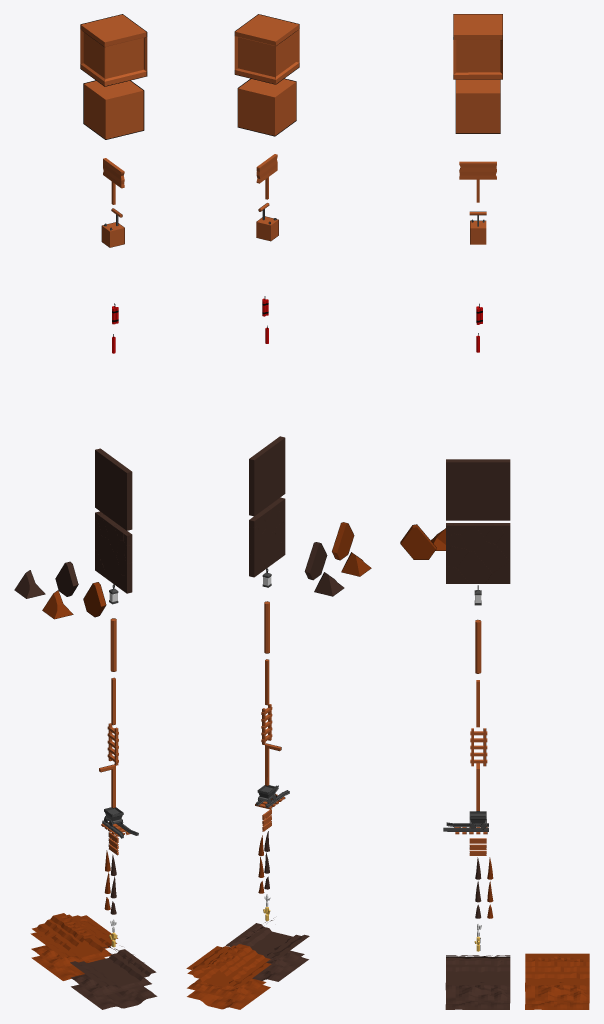
Rendered from CaveLevelForExportFixed2.fbx.
3 views of the same model, side by side, from view 1: azimuth 30°, elevation 25°; view 2: azimuth 150°, elevation 25°; view 3: azimuth 270°, elevation 25° (orthographic). The views are drawn at different scales.
Visible parts, largest first — view 1: Box_Wooden, Box_Wooden.001, RockBlowNotCut, GridWallV2, GridWallV5, GridWallV4, GridWallV6, GridWallV3, GridWallV7, StoneV2, StoneV4, GridWallV7.001 (+7 smaller); view 2: Box_Wooden, Box_Wooden.001, RockBlowNotCut, GridWallV5, GridWallV2, GridWallV7, GridWallV7.001, GridWallV6, StoneV4, StoneV2, Sign, DynamiteMachineBox (+2 smaller); view 3: RockBlowNotCut, Box_Wooden, Box_Wooden.001, GridWallV5, GridWallV2, GridWallV3, GridWallV7, StoneV4, Sign, GridWallV4, GridWallV7.001, RockBlow (+2 smaller).
Boxes of the visible parts, x1,y1,x2,y2 form: Box_Wooden: [80, 14, 147, 86]; Box_Wooden.001: [83, 80, 144, 139]; RockBlowNotCut: [95, 448, 132, 530]; GridWallV2: [70, 949, 156, 986]; GridWallV5: [32, 913, 117, 951]; GridWallV4: [71, 984, 157, 1009]; GridWallV6: [30, 932, 116, 957]; GridWallV3: [70, 974, 151, 997]; GridWallV7: [31, 945, 111, 968]; StoneV2: [55, 561, 78, 596]; StoneV4: [83, 582, 106, 617]; GridWallV7.001: [31, 956, 105, 980]; Box_Wooden: [234, 14, 299, 84]; Box_Wooden.001: [237, 78, 296, 136]; RockBlowNotCut: [249, 436, 285, 516]; GridWallV5: [186, 944, 270, 981]; GridWallV2: [226, 923, 309, 958]; GridWallV7: [187, 978, 266, 1001]; GridWallV7.001: [187, 985, 270, 1009]; GridWallV6: [187, 963, 271, 987]; StoneV4: [332, 522, 354, 560]; StoneV2: [304, 542, 327, 580]; Sign: [256, 154, 277, 199]; DynamiteMachineBox: [256, 216, 278, 241]; RockBlowNotCut: [446, 459, 510, 520]; Box_Wooden: [453, 14, 502, 79]; Box_Wooden.001: [455, 79, 500, 133]; GridWallV5: [525, 953, 589, 980]; GridWallV2: [446, 958, 510, 985]; GridWallV3: [455, 985, 510, 1000]; GridWallV7: [535, 985, 589, 1000]; StoneV4: [400, 524, 436, 559]; Sign: [459, 161, 496, 202]; GridWallV4: [445, 983, 510, 1009]; GridWallV7.001: [525, 983, 589, 1009]; RockBlow: [457, 551, 492, 583].
Bounding box in the file's own units: 404 × 3347 × 589.
